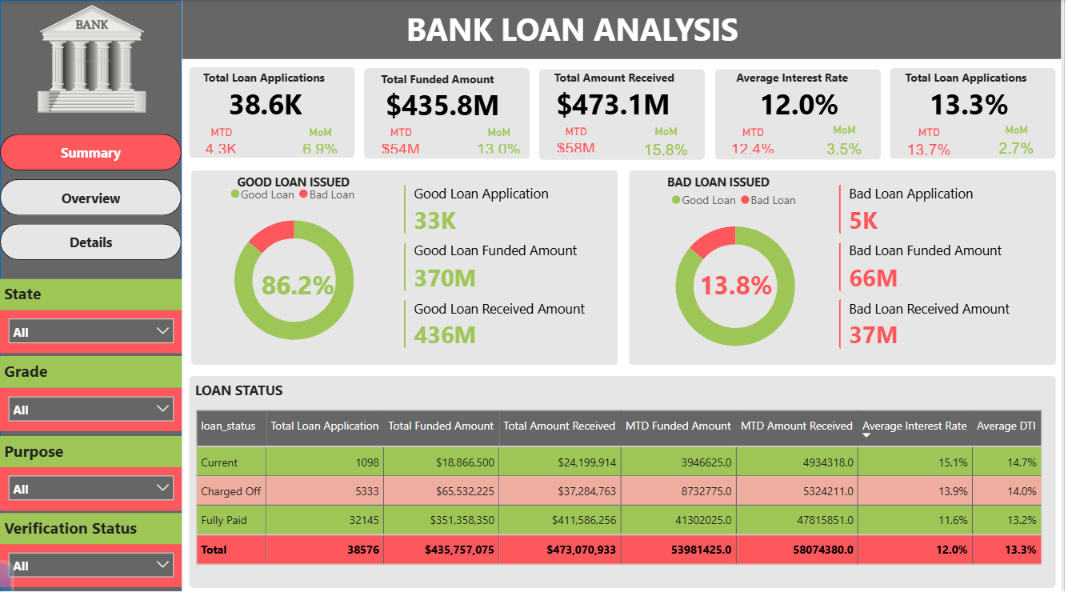

Layout of this report page (visuals, bound fields, positions):
{"tool":"powerbi","page":{"name":"Summary","canvas":[1280,720],"ordinal":0},"visuals":[{"type":"shape","box":[0,0,219.3,719.9],"z":0},{"type":"shape","box":[219.6,0,1060.5,71.2],"z":1000},{"type":"textbox","box":[485,4.8,439.1,60.3],"z":2000},{"type":"shape","box":[228,80.8,200,109.8],"z":3000},{"type":"cardVisual","fields":{"Data":["bank_project financial_loan.Total Loan Application"]},"box":[238.1,90.9,178.9,70.7],"z":4000},{"type":"textbox","box":[239.8,79.9,161.7,32.6],"z":5000},{"type":"cardVisual","title":"MTD","fields":{"Data":["bank_project financial_loan.MTD Loan Application"]},"box":[230.4,149.6,73.6,41],"z":6000},{"type":"shape","box":[439.4,82,200,109.8],"z":7000},{"type":"shape","box":[650.9,83.2,200,109.8],"z":8000},{"type":"shape","box":[1073.7,82,200,109.8],"z":9000},{"type":"shape","box":[862.3,83.7,200,109.6],"z":10000},{"type":"cardVisual","title":"MoM","fields":{"Data":["bank_project financial_loan.MoM Loan Application"]},"box":[345,149.6,83.2,41],"z":11000},{"type":"cardVisual","fields":{"Data":["bank_project financial_loan.Total Funded Amount"]},"box":[439.1,97.7,189.4,53.1],"z":12000},{"type":"textbox","box":[455.4,81.2,161.7,32.6],"z":13000},{"type":"cardVisual","title":"MTD","fields":{"Data":["bank_project financial_loan.MTD Funded Amount"]},"box":[441.6,149.6,84.5,41],"z":14000},{"type":"cardVisual","title":"MoM","fields":{"Data":["bank_project financial_loan.MoM Total Funded Ratio"]},"box":[553.8,152,96.5,38.6],"z":15000},{"type":"cardVisual","fields":{"Data":["bank_project financial_loan.Total Payment Received"]},"box":[653.9,96.5,171.3,53.1],"z":16000},{"type":"textbox","box":[663.9,80.2,161.7,32.6],"z":17000},{"type":"cardVisual","title":"MTD","fields":{"Data":["bank_project financial_loan.MTD Total Amount Received"]},"box":[650.3,149.6,89.3,39.8],"z":18000},{"type":"cardVisual","title":"MoM","fields":{"Data":["bank_project financial_loan.MoM Payment Received Ratio"]},"box":[756.4,150.8,94.1,43.4],"z":19000},{"type":"cardVisual","fields":{"Data":["bank_project financial_loan.Average Amount Ratio"]},"box":[863.8,96.5,200.3,53.1],"z":20000},{"type":"textbox","box":[883.1,79.6,161.7,32.6],"z":21000},{"type":"cardVisual","title":"MTD","fields":{"Data":["bank_project financial_loan.MTD Avg Interest Rate"]},"box":[867.4,154.4,89.3,38.6],"z":22000},{"type":"cardVisual","title":"MoM","fields":{"Data":["bank_project financial_loan.MoM Avg Interest"]},"box":[973.6,149.6,90.5,43.4],"z":23000},{"type":"cardVisual","fields":{"Data":["bank_project financial_loan.Avg DTI"]},"box":[1073.7,96.5,190.6,53.1],"z":24000},{"type":"textbox","box":[1086.6,79.2,161.7,32.6],"z":25000},{"type":"cardVisual","title":"MTD","fields":{"Data":["bank_project financial_loan.MTD Avg DTI"]},"box":[1073.7,152,94.1,39.8],"z":26000},{"type":"cardVisual","title":"MoM","fields":{"Data":["bank_project financial_loan.MoM Avg DTI"]},"box":[1178.7,149.6,95.3,42.2],"z":27000},{"type":"shape","box":[230.4,205.1,515,235.3],"z":28000},{"type":"shape","box":[758.9,205.1,515.2,235.3],"z":29000},{"type":"donutChart","fields":{"Category":["bank_project financial_loan.Good vs Bad Loan"],"Y":["bank_project financial_loan.Total Loan Application"]},"box":[228,213.5,253.9,219.3],"z":30000},{"type":"cardVisual","fields":{"Data":["bank_project financial_loan.Good Loan %"]},"box":[290.8,314.9,137.5,53.1],"z":31000},{"type":"textbox","box":[267.8,205.1,190.6,32.6],"z":32000},{"type":"cardVisual","fields":{"Data":["bank_project financial_loan.Good Loan Application","bank_project financial_loan.Good Loan Funded Amount","bank_project financial_loan.Good Loan Received Amount"]},"box":[470.5,205.1,269,235.3],"z":33000},{"type":"donutChart","fields":{"Category":["bank_project financial_loan.Good vs Bad Loan"],"Y":["bank_project financial_loan.Total Loan Application"]},"box":[760.1,220.8,254.6,219.6],"z":34000},{"type":"textbox","box":[799.9,205.1,156.8,32.6],"z":35000},{"type":"cardVisual","fields":{"Data":["bank_project financial_loan.Bad Loan %"]},"box":[819.2,314.9,137.5,53.1],"z":36000},{"type":"cardVisual","fields":{"Data":["bank_project financial_loan.Bad Loan Application","bank_project financial_loan.Bad Loan Funded Amount","bank_project financial_loan.Bad Loan Received Amount"]},"box":[995.3,205.1,269,235.3],"z":37000},{"type":"shape","box":[228,453.6,1046,255.8],"z":38000},{"type":"tableEx","fields":{"Values":["bank_project financial_loan.loan_status","bank_project financial_loan.Total Loan Application","bank_project financial_loan.Total Funded Amount","bank_project financial_loan.Total Amount Received","bank_project financial_loan.MTD Funded Amount","bank_project financial_loan.MTD Total Amount Received","bank_project financial_loan.Average Interest Rate","bank_project financial_loan.Average DTI"]},"box":[230.4,489.8,1043.6,219.6],"z":39000},{"type":"slicer","fields":{"Values":["bank_project financial_loan.address_state"]},"box":[0,373.5,219.6,51.9],"z":40000},{"type":"slicer","fields":{"Values":["bank_project financial_loan.grade"]},"box":[0,468.1,219.6,51.9],"z":41000},{"type":"slicer","fields":{"Values":["bank_project financial_loan.purpose"]},"box":[0,563.4,219.6,53.1],"z":42000},{"type":"slicer","fields":{"Values":["bank_project financial_loan.verification_status"]},"box":[0,656.3,219.6,51.9],"z":43000},{"type":"textbox","box":[0,336.1,219.6,37.4],"z":44000},{"type":"textbox","box":[0,429.5,219.6,38.6],"z":45000},{"type":"textbox","box":[0,526,219.6,37.4],"z":46000},{"type":"textbox","box":[0,618.9,219.6,37.4],"z":47000},{"type":"textbox","box":[230.4,454.8,161.7,32.6],"z":48000},{"type":"image","box":[15.7,2.4,190.6,137.5],"z":49000},{"type":"pageNavigator","box":[0,161.7,219.6,152],"z":50000}]}

Visuals, with their boxes in screenshot pixels (x1, y1, x2, y2), scaled from the page's 1280x720 canvas onto the 1067x592 screenshot:
shape: box=[0, 0, 183, 591]
shape: box=[183, 0, 1066, 59]
textbox: box=[404, 4, 770, 54]
shape: box=[190, 66, 357, 157]
cardVisual - bank_project financial_loan.Total Loan Application: box=[198, 75, 348, 133]
textbox: box=[200, 66, 335, 92]
"MTD" cardVisual: box=[192, 123, 253, 157]
shape: box=[366, 67, 533, 158]
shape: box=[543, 68, 709, 159]
shape: box=[895, 67, 1062, 158]
shape: box=[719, 69, 886, 159]
"MoM" cardVisual: box=[288, 123, 357, 157]
cardVisual - bank_project financial_loan.Total Funded Amount: box=[366, 80, 524, 124]
textbox: box=[380, 67, 514, 94]
"MTD" cardVisual: box=[368, 123, 439, 157]
"MoM" cardVisual: box=[462, 125, 542, 157]
cardVisual - bank_project financial_loan.Total Payment Received: box=[545, 79, 688, 123]
textbox: box=[553, 66, 688, 93]
"MTD" cardVisual: box=[542, 123, 617, 156]
"MoM" cardVisual: box=[631, 124, 709, 160]
cardVisual - bank_project financial_loan.Average Amount Ratio: box=[720, 79, 887, 123]
textbox: box=[736, 65, 871, 92]
"MTD" cardVisual: box=[723, 127, 797, 159]
"MoM" cardVisual: box=[812, 123, 887, 159]
cardVisual - bank_project financial_loan.Avg DTI: box=[895, 79, 1054, 123]
textbox: box=[906, 65, 1041, 92]
"MTD" cardVisual: box=[895, 125, 973, 158]
"MoM" cardVisual: box=[983, 123, 1062, 158]
shape: box=[192, 169, 621, 362]
shape: box=[633, 169, 1062, 362]
donutChart - bank_project financial_loan.Good vs Bad Loan x bank_project financial_loan.Total Loan Application: box=[190, 176, 402, 356]
cardVisual - bank_project financial_loan.Good Loan %: box=[242, 259, 357, 303]
textbox: box=[223, 169, 382, 195]
cardVisual - bank_project financial_loan.Good Loan Application x bank_project financial_loan.Good Loan Funded Amount: box=[392, 169, 616, 362]
donutChart - bank_project financial_loan.Good vs Bad Loan x bank_project financial_loan.Total Loan Application: box=[634, 182, 846, 362]
textbox: box=[667, 169, 797, 195]
cardVisual - bank_project financial_loan.Bad Loan %: box=[683, 259, 797, 303]
cardVisual - bank_project financial_loan.Bad Loan Application x bank_project financial_loan.Bad Loan Funded Amount: box=[830, 169, 1054, 362]
shape: box=[190, 373, 1062, 583]
tableEx - bank_project financial_loan.loan_status x bank_project financial_loan.Total Loan Application: box=[192, 403, 1062, 583]
slicer - bank_project financial_loan.address_state: box=[0, 307, 183, 350]
slicer - bank_project financial_loan.grade: box=[0, 385, 183, 428]
slicer - bank_project financial_loan.purpose: box=[0, 463, 183, 507]
slicer - bank_project financial_loan.verification_status: box=[0, 540, 183, 582]
textbox: box=[0, 276, 183, 307]
textbox: box=[0, 353, 183, 385]
textbox: box=[0, 432, 183, 463]
textbox: box=[0, 509, 183, 540]
textbox: box=[192, 374, 327, 401]
image: box=[13, 2, 172, 115]
pageNavigator: box=[0, 133, 183, 258]
